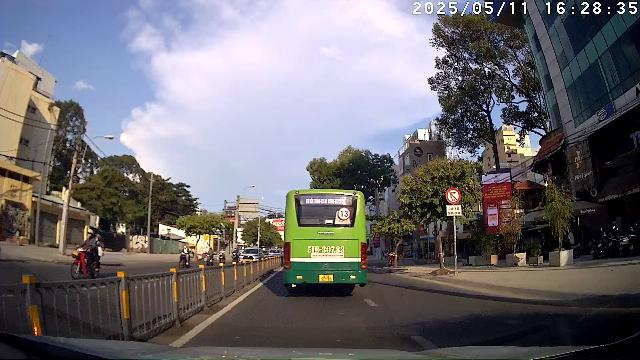103b-cam-oto-re-phai: (446, 188, 460, 204)
